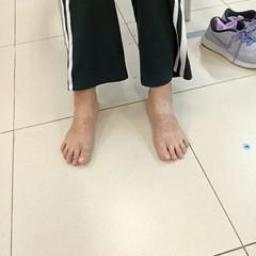Dorsal View -Both Feet-: (33, 64, 216, 185)
